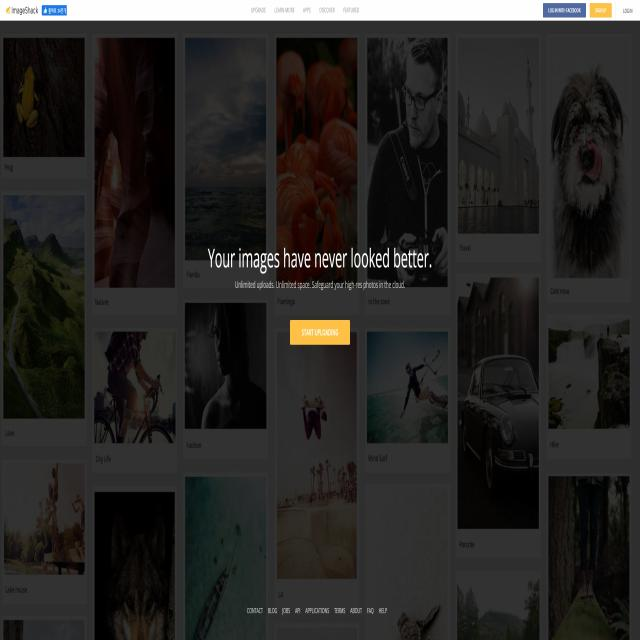tab-bar: (242, 600, 390, 618), (246, 2, 364, 20)
